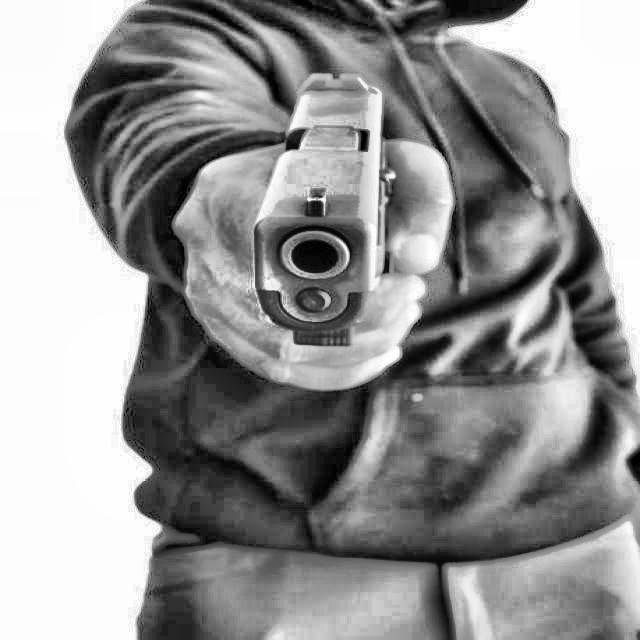pistol: (232, 65, 411, 363)
